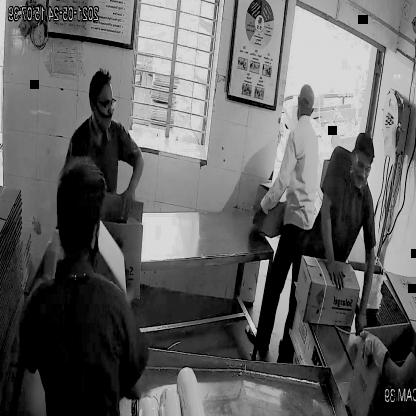goggles: (352, 152, 375, 177), (91, 94, 118, 114)
